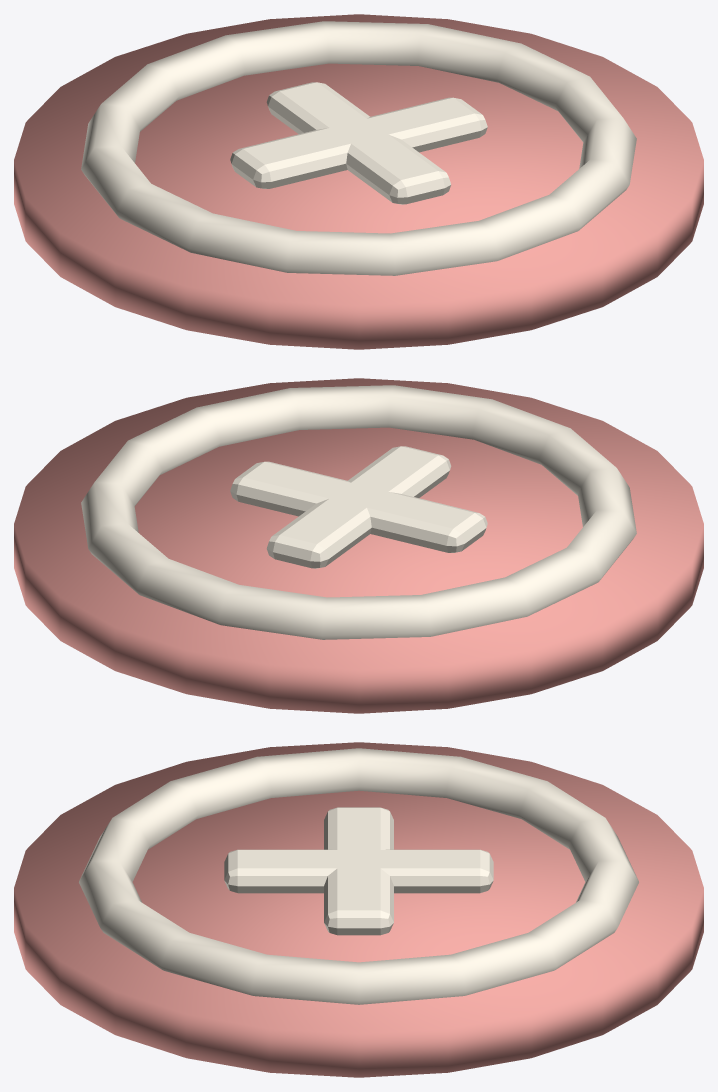
File: marker-goal.glb
The picture shows the model from 3 angles, top to bottom: view 1: azimuth 30°, elevation 25°; view 2: azimuth 150°, elevation 25°; view 3: azimuth 270°, elevation 25°; orthographic projection.
Visible parts, largest first — view 1: mesh_marker_goal_body, mesh_marker_goal_accent; view 2: mesh_marker_goal_body, mesh_marker_goal_accent; view 3: mesh_marker_goal_body, mesh_marker_goal_accent.
Part boxes in pixels (box(x1,y1,x2,y2)): mesh_marker_goal_body: box(14, 14, 703, 349); mesh_marker_goal_accent: box(81, 21, 636, 275); mesh_marker_goal_body: box(14, 378, 703, 713); mesh_marker_goal_accent: box(81, 385, 636, 639); mesh_marker_goal_body: box(14, 742, 703, 1077); mesh_marker_goal_accent: box(79, 748, 638, 1004).
Size of the model in its own units: 0.64 by 0.0745 by 0.64.
